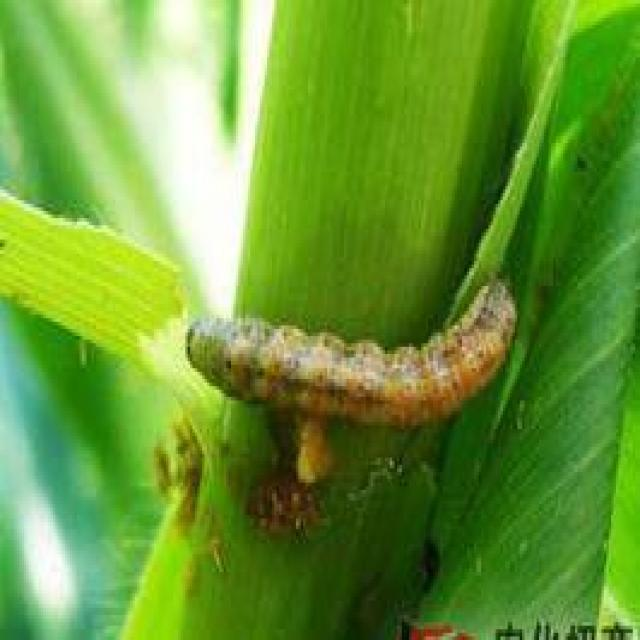armyworm: (174, 280, 523, 430)
